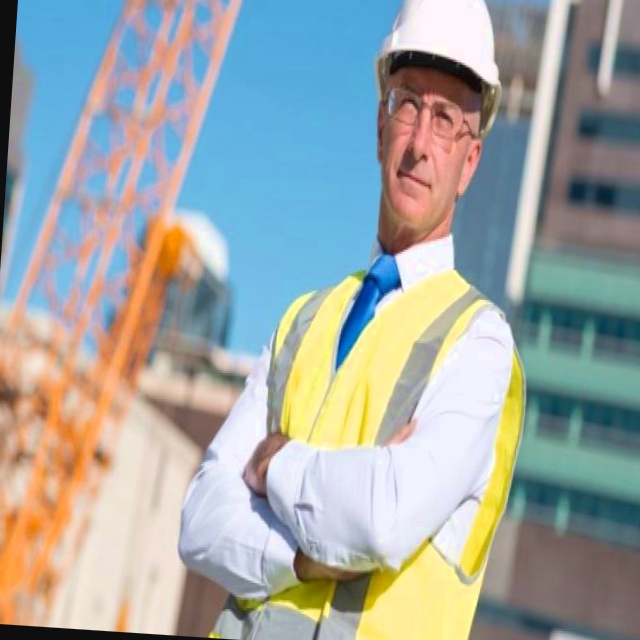Con_Casco: (365, 0, 503, 234)
Con_Chaleco: (238, 258, 534, 640)
